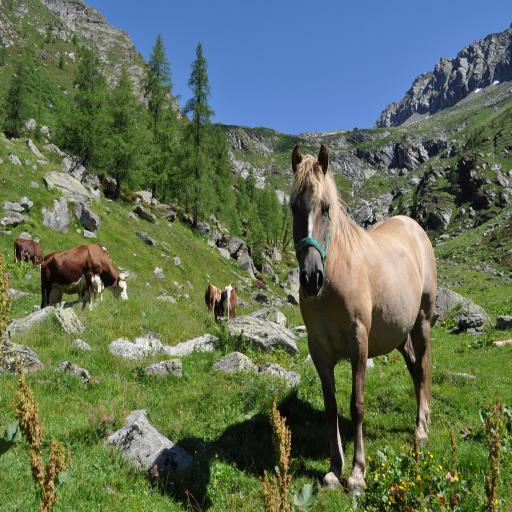horse: (288, 140, 438, 496)
